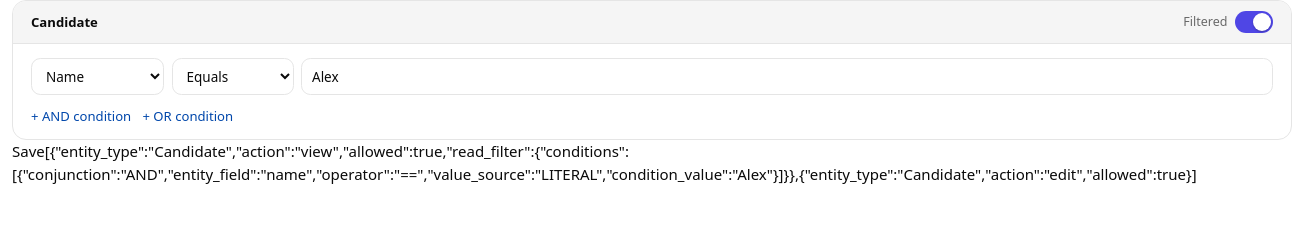
mixed role read conditions › blocks comma in scalar operators with an inline warning
Step 1. Replace the text in the field named "Value for condition 1" with "Alex,Sam" → (787, 77), box top-left (301, 58), bottom-right (1273, 95)
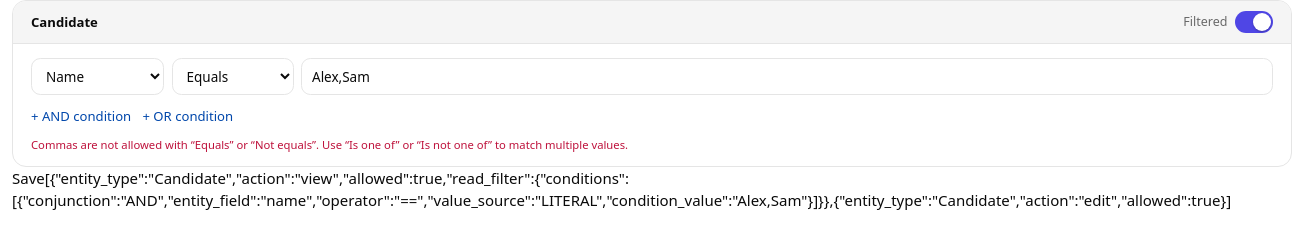
Now the button "Save" is disabled, box top-left (12, 166), bottom-right (45, 189)
Now the text "Commas are not allowed with “Equals” or “Not equals”. Use “Is one of” or “Is not one of” to match multiple values." is shown, box top-left (31, 136), bottom-right (628, 152)
Step 2. Select "Is one of" in the dropdown named "Operator for condition 1" → (232, 77), box top-left (172, 58), bottom-right (294, 95)
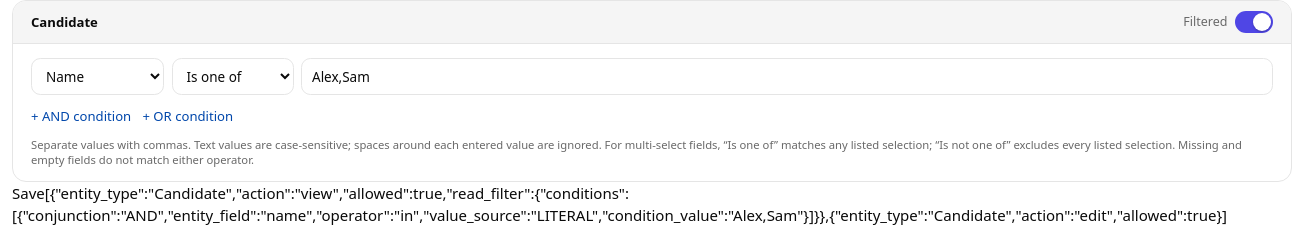
Now the button "Save" is enabled, box top-left (12, 182), bottom-right (45, 204)
Now the text "Commas are not allowed with “Equals” or “Not equals”. Use “Is one of” or “Is not one of” to match multiple values." is gone
